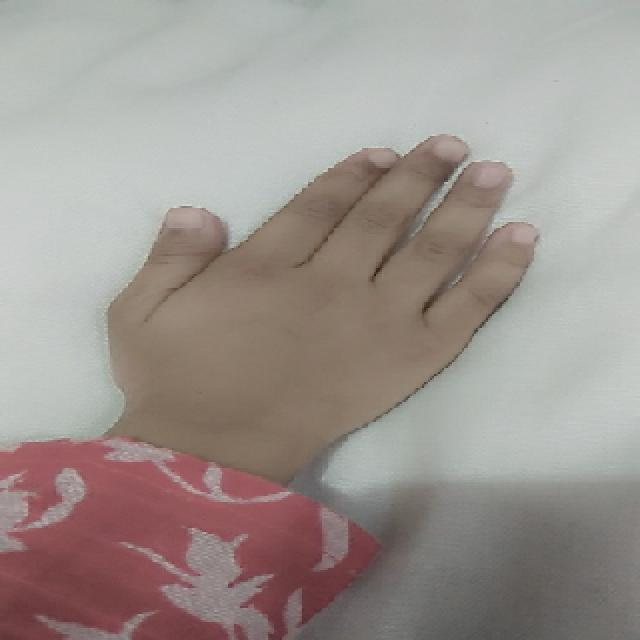Nail: (471, 161, 511, 189), (432, 136, 469, 164), (165, 208, 204, 229), (368, 149, 399, 169), (510, 224, 538, 245)
